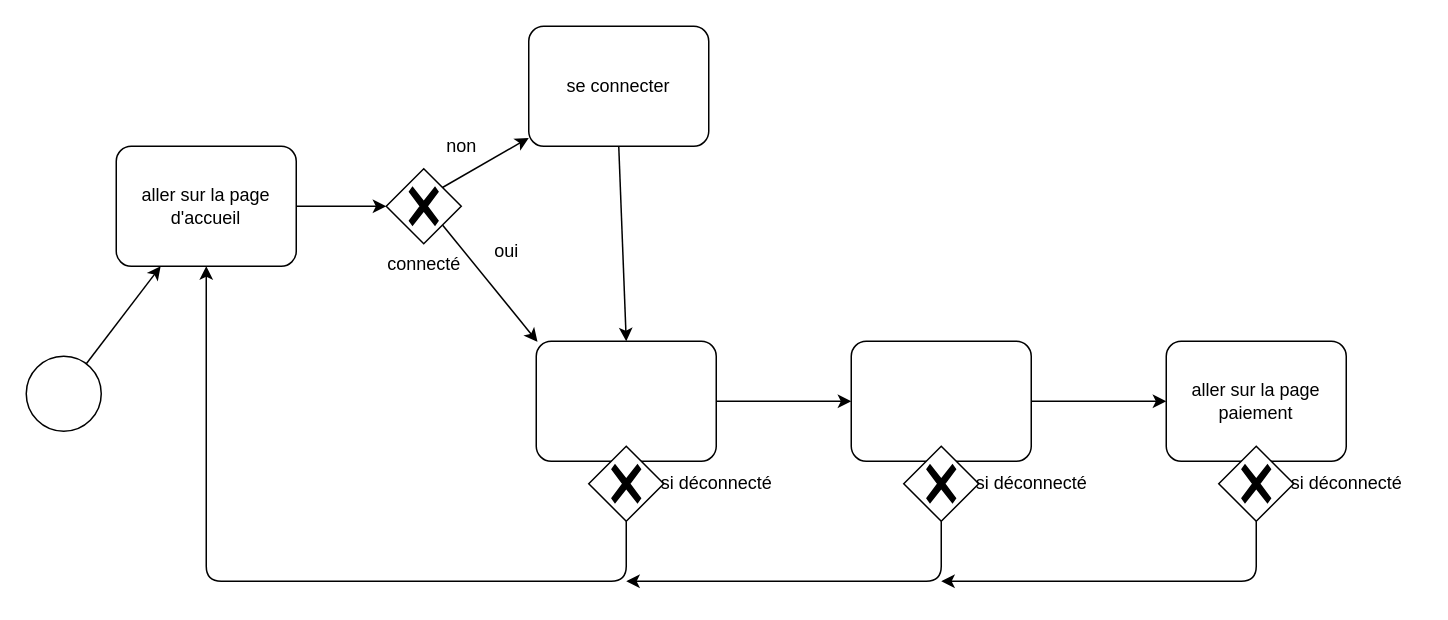
The diagram is 1448 pixels wide and 620 high, and some of its shapes have lost their labels. Each missing label, with the centre of its shape:
"aller sur la page panier" belongs at point (625, 400).
"aller sur la page validation du panier" belongs at point (940, 400).
